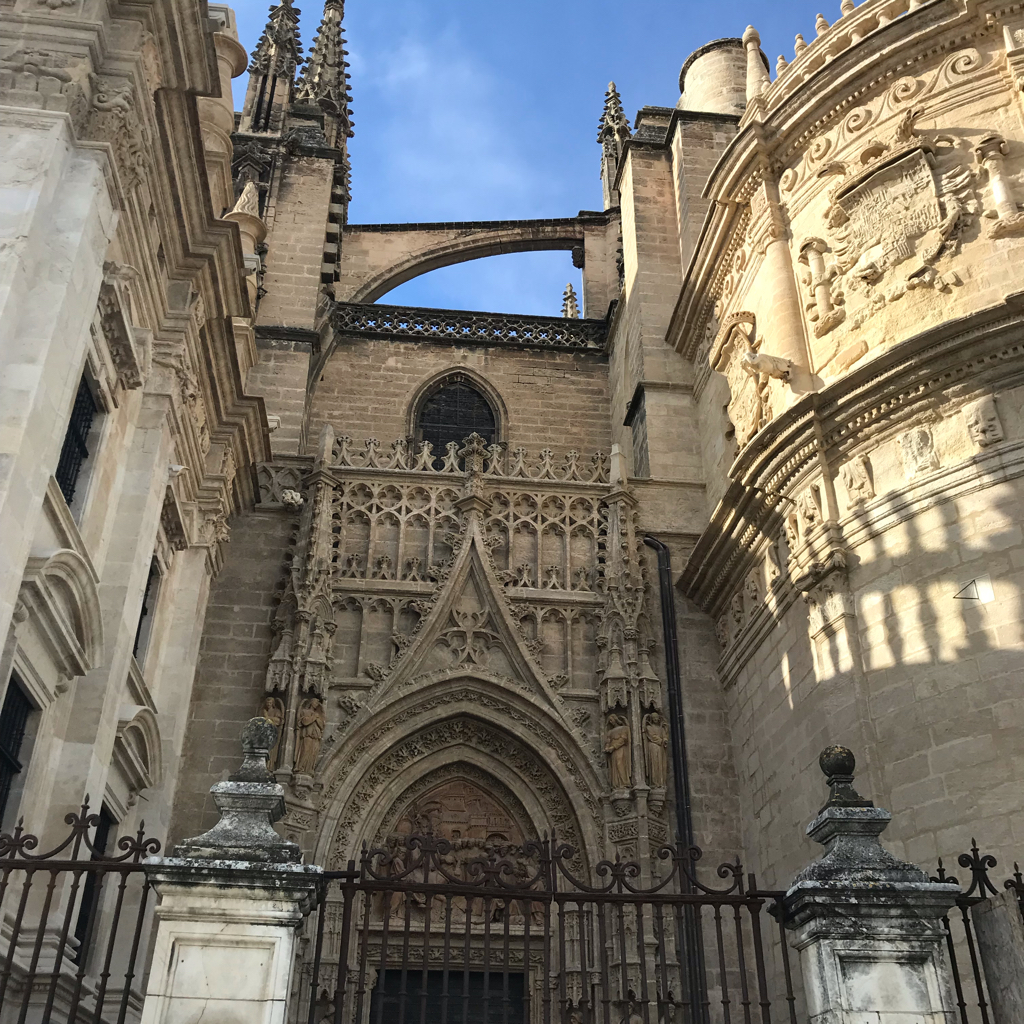arco-apuntado: (314, 670, 599, 926), (404, 363, 512, 438)
pinaculo-gotico: (271, 454, 344, 614), (593, 488, 657, 651), (286, 1, 359, 113), (594, 75, 632, 147)
